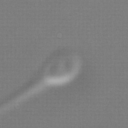normal: (1, 77, 45, 113)
